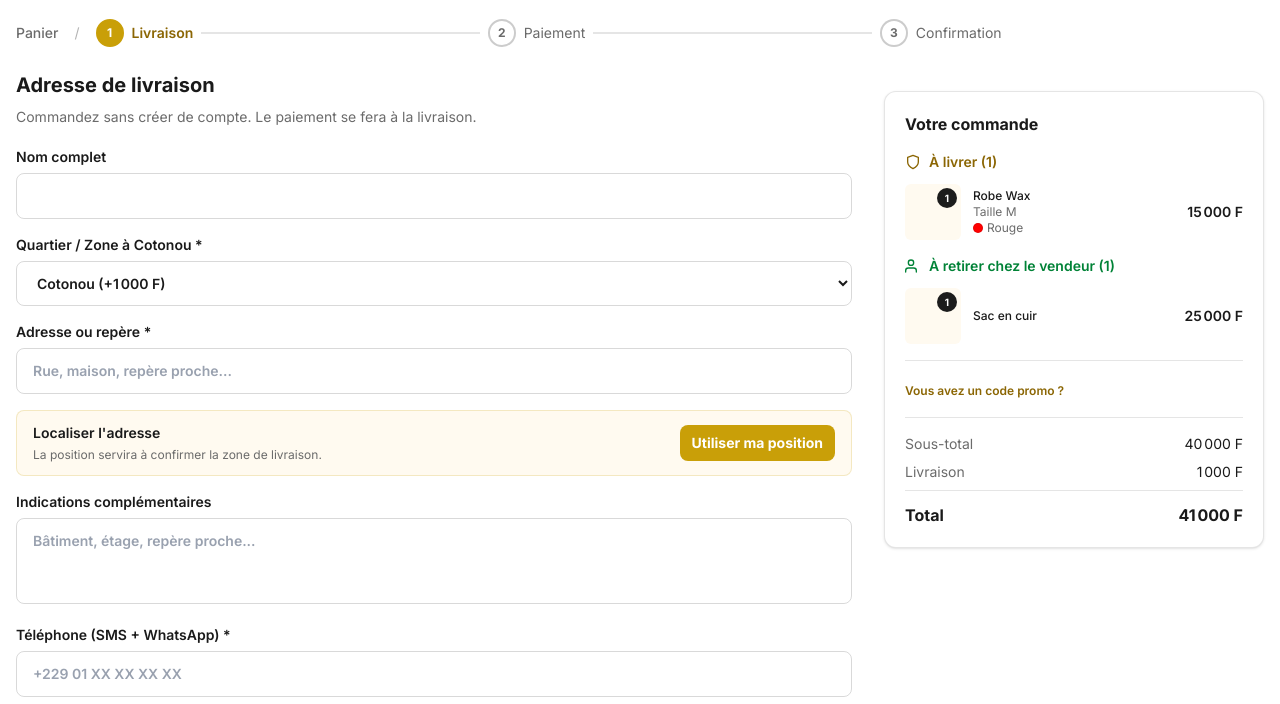
it: Checkout › affiche une erreur quand la soumission de la commande échoue
The image size is (1280, 704).
Expected: the dropdown labelled "Quartier / Zone à Cotonou *" is shown, [16,261,852,306]
In the field labelled "Nom complet": {"x": 434, "y": 196} [16,173,852,219], type "Fofo"
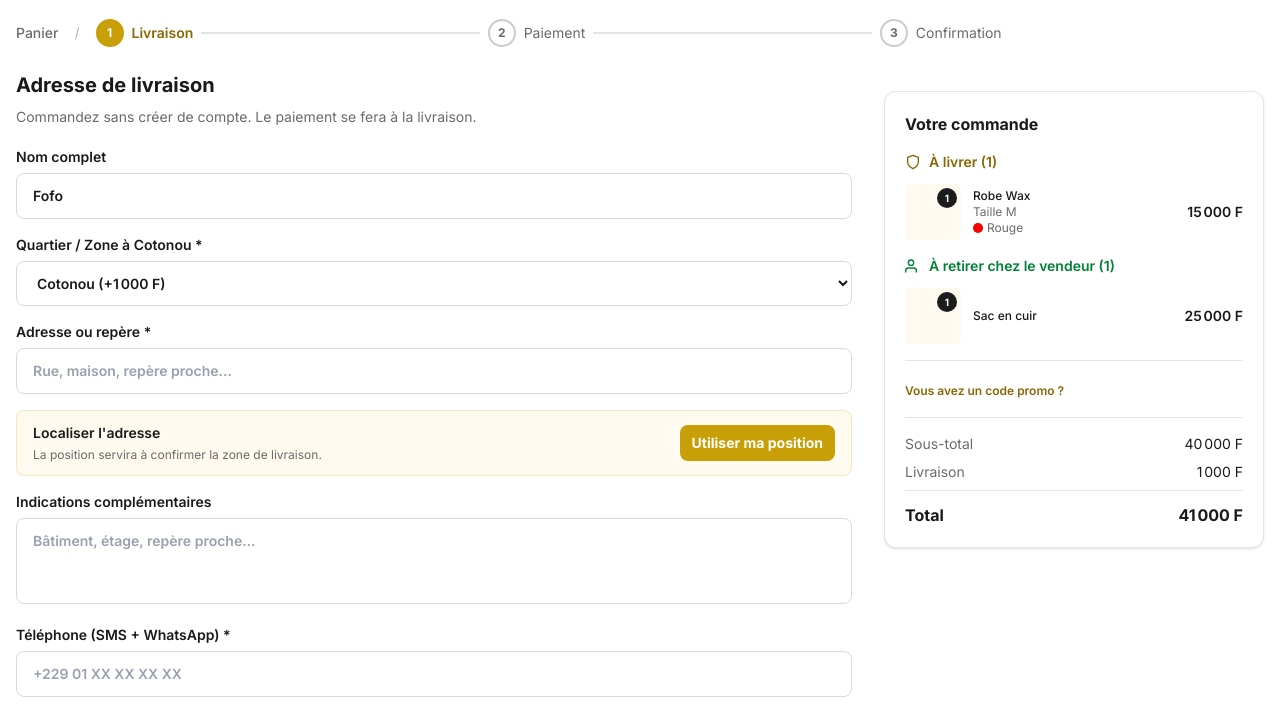
In the field labelled "Téléphone": {"x": 434, "y": 674} [16,651,852,697], type "+229 01 00 00 00"
(page scrolled)
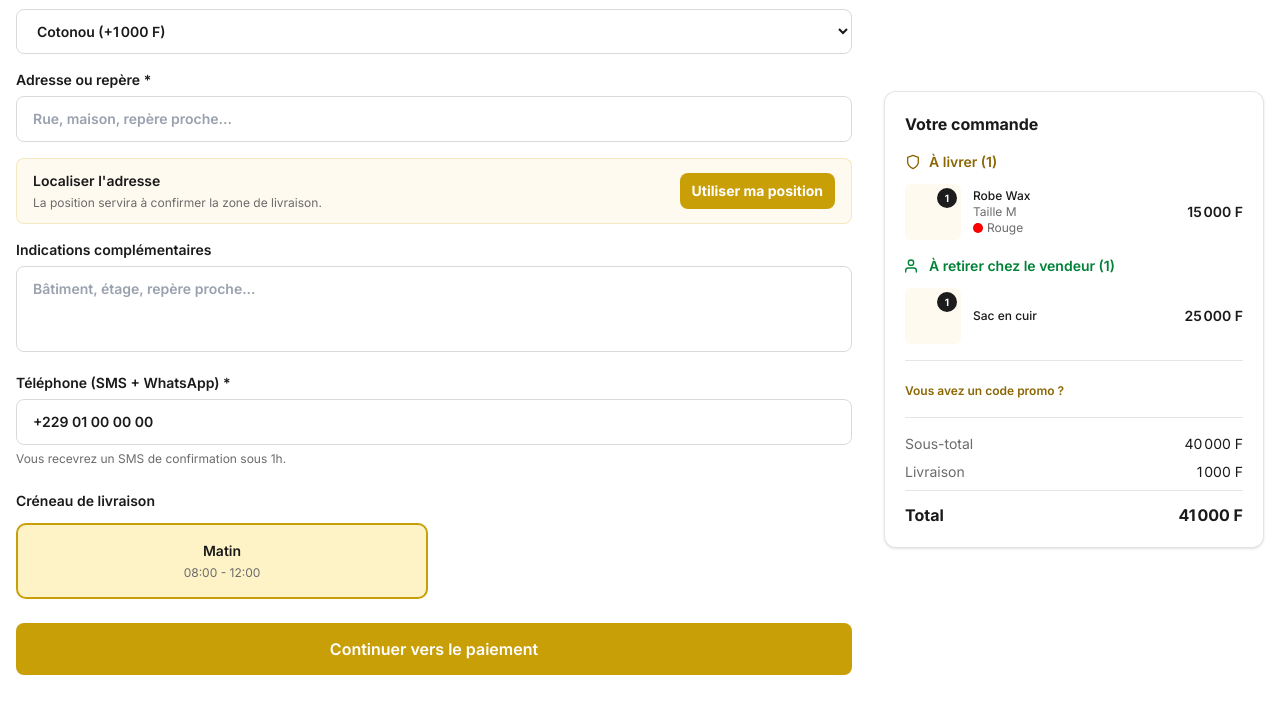
Click the button "Continuer vers le paiement": {"x": 434, "y": 649} [16,623,852,675]
(page scrolled)
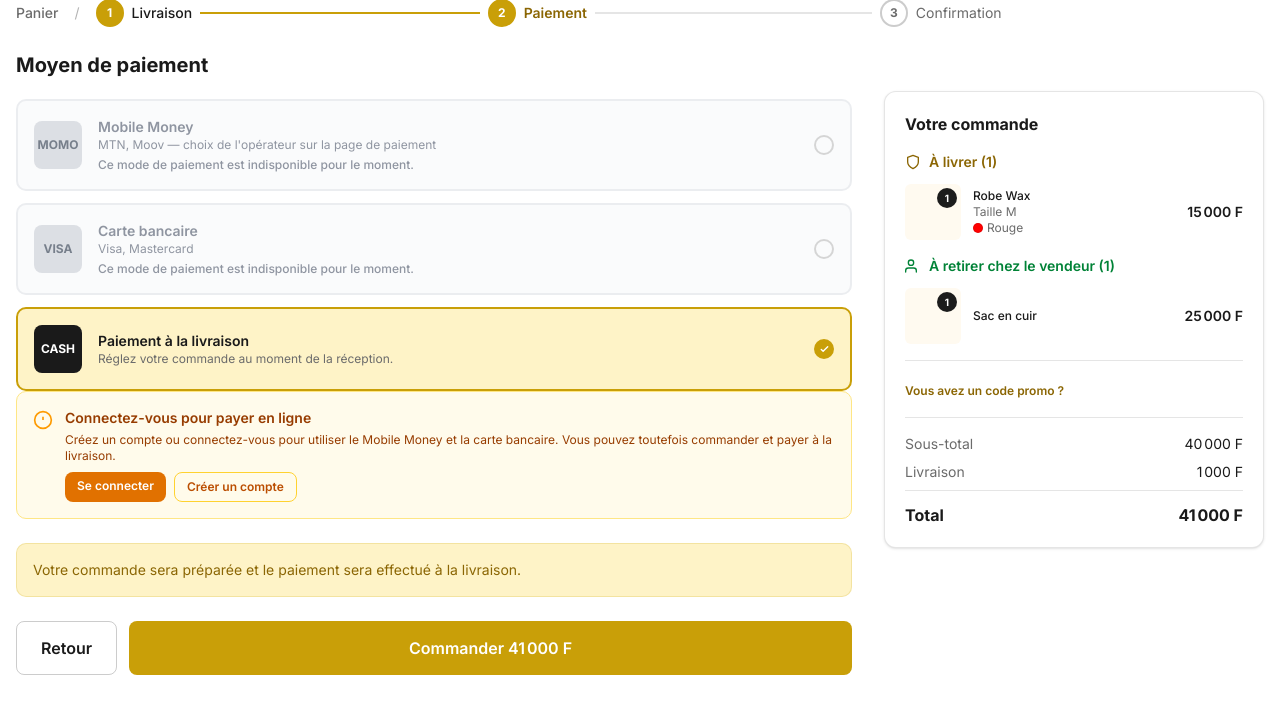
Click the button "Commander 41 000 F": {"x": 491, "y": 648} [129,621,852,675]
(page scrolled)
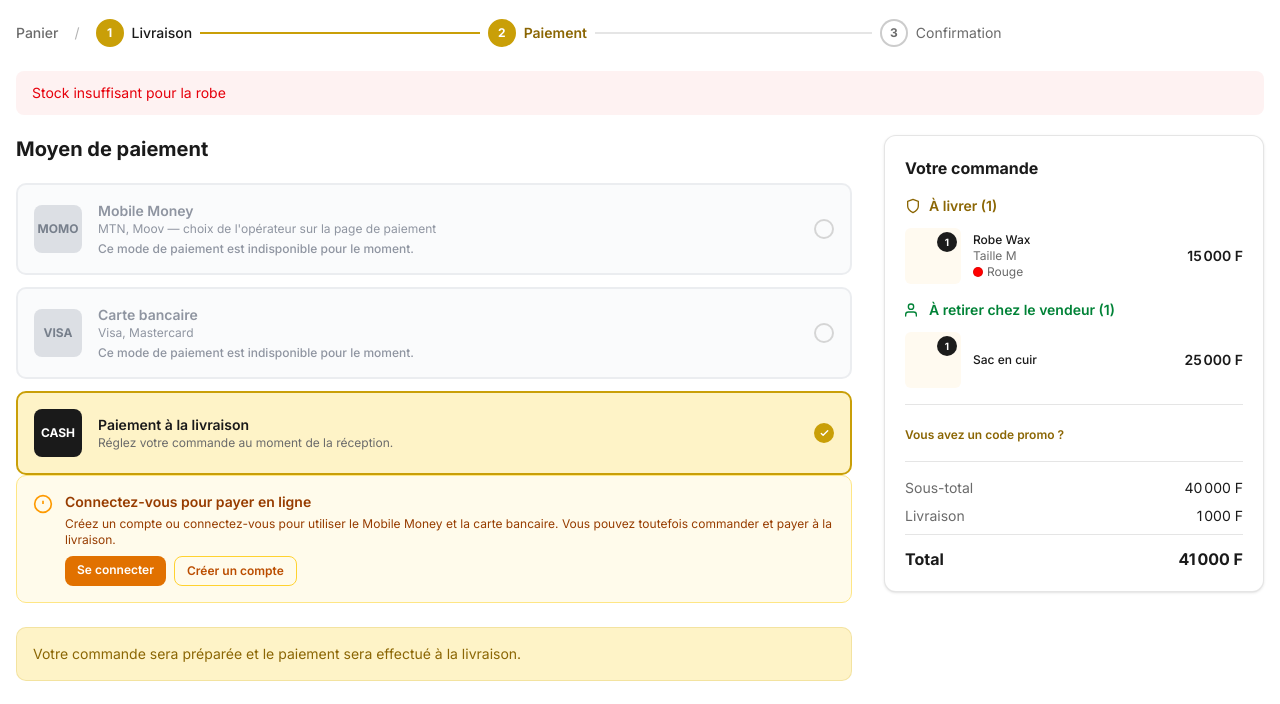
Now the message reads "Stock insuffisant pour la robe", box [32,84,226,101]
